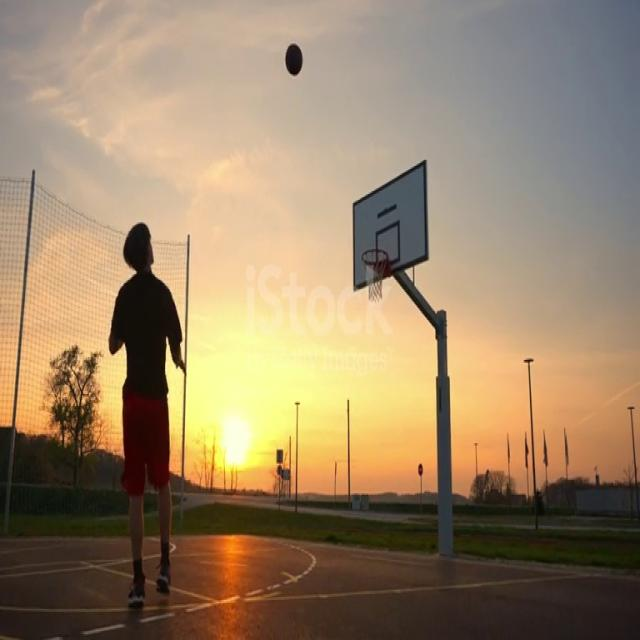ball: (284, 43, 304, 77)
